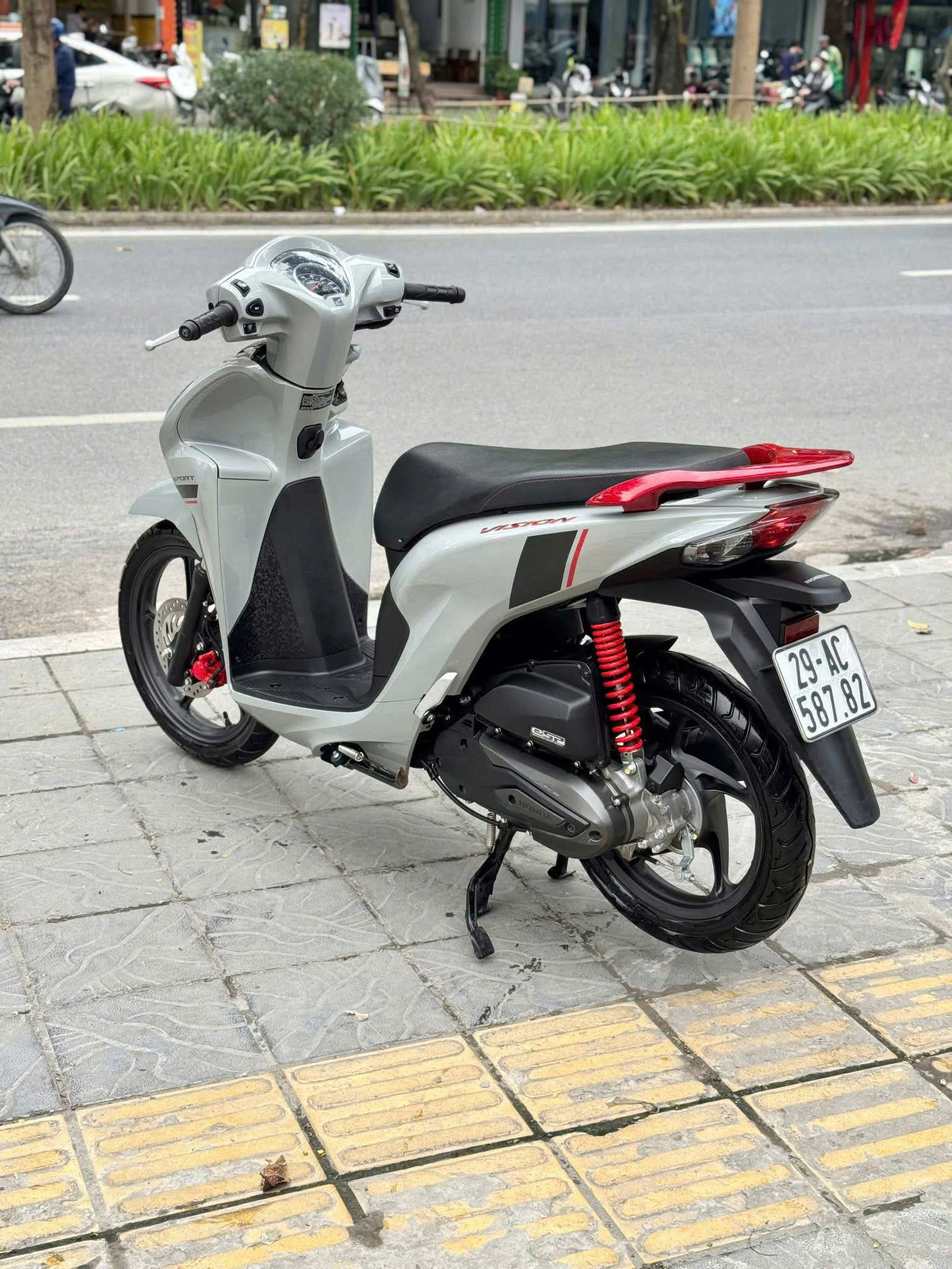Bien-so: (771, 629, 875, 748)
